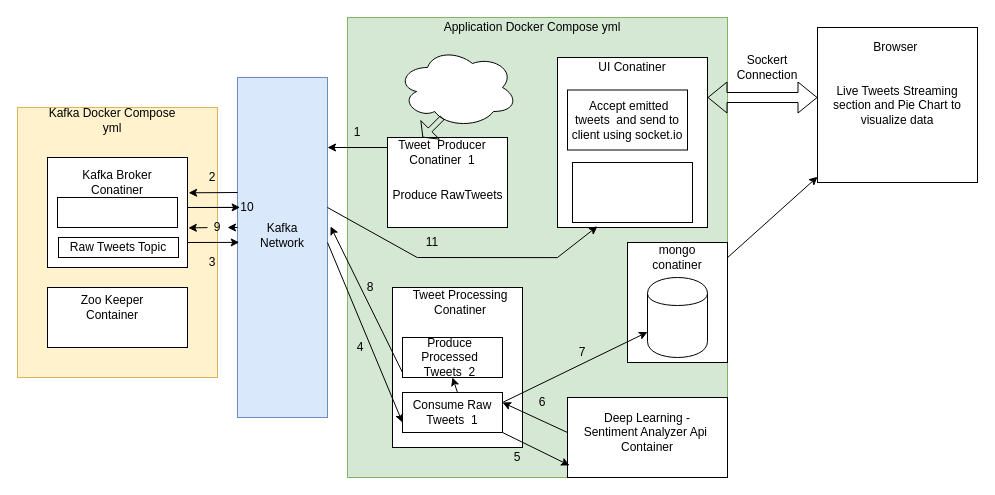
The diagram is 995 pixels wide and 495 high, and some of its shapes have lost their labels. Each missing label, with the box of its shape:
Processed Tweets Topic: (56, 196, 178, 228)
Twiitter Api: (396, 46, 518, 128)
UI Server - Consume processed Tweets and emit: (572, 162, 692, 222)
